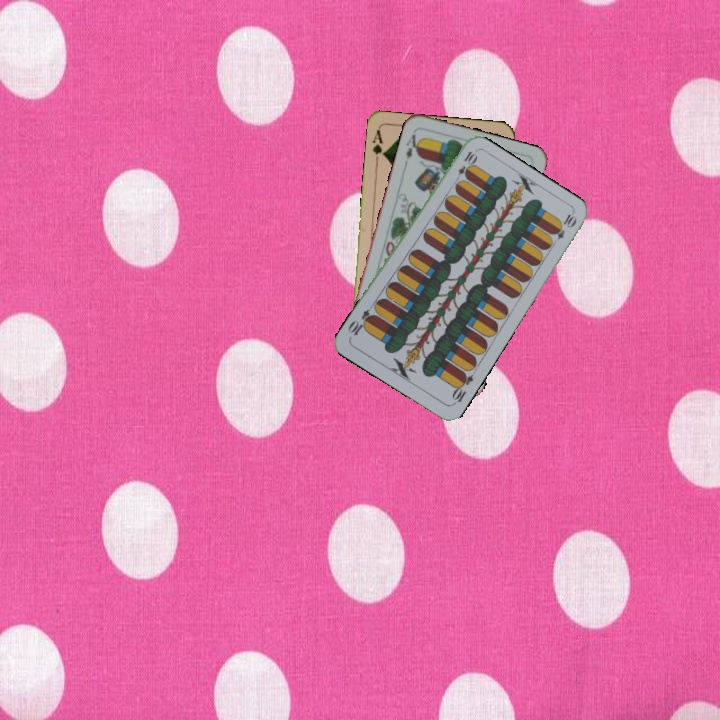E10: (447, 368, 476, 407), (451, 147, 479, 185)
EA: (401, 130, 424, 167)
GA: (368, 125, 387, 166)
